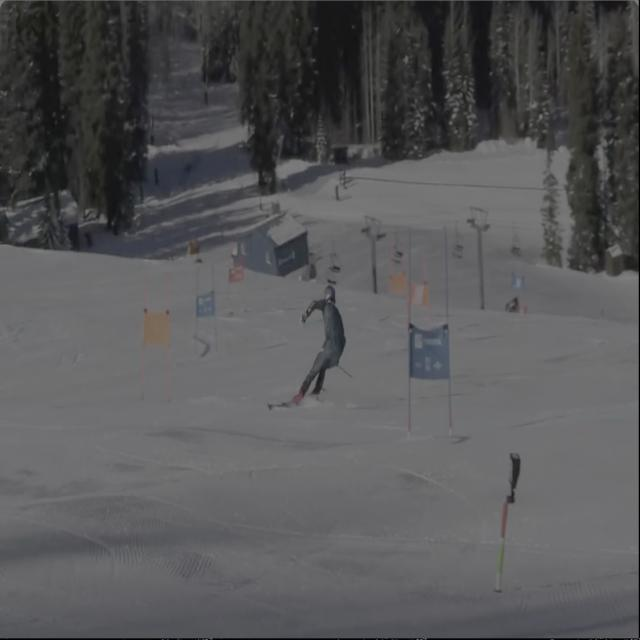gate: (438, 222, 462, 442), (397, 227, 419, 457), (160, 271, 178, 412), (134, 272, 152, 412), (205, 268, 221, 358), (190, 253, 202, 361)
